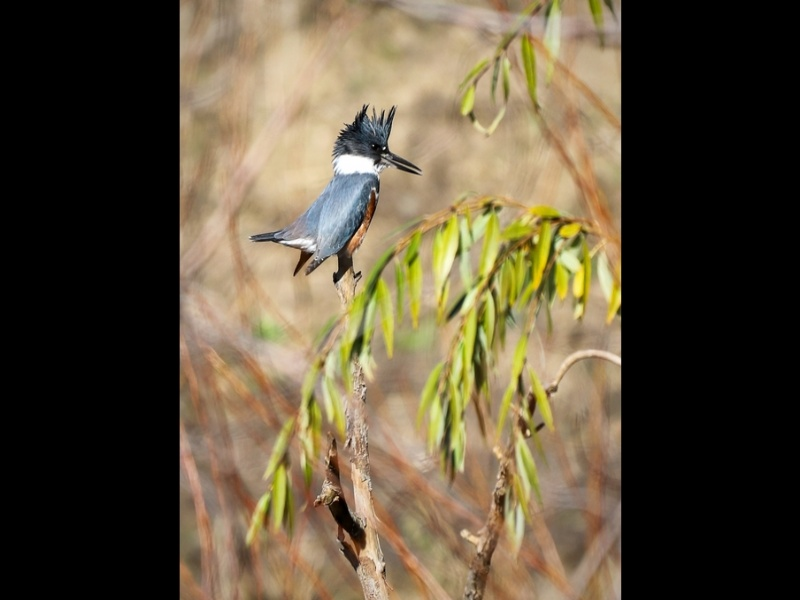kingfisher: (245, 102, 423, 285)
